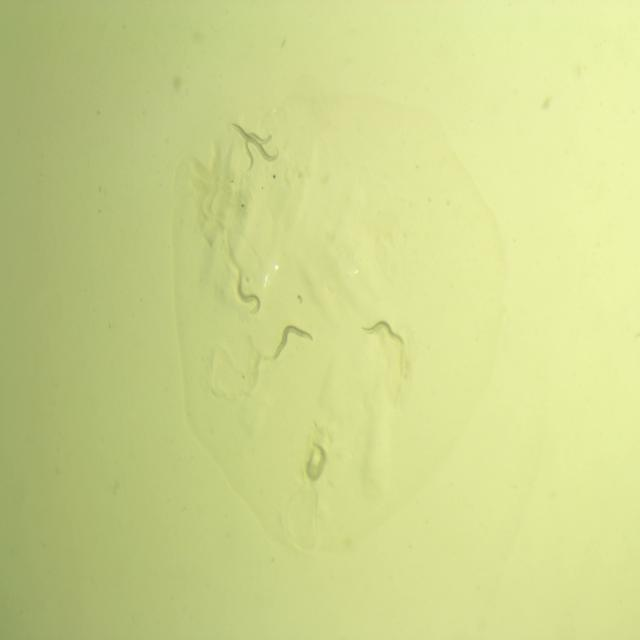worm: (358, 302, 406, 362), (228, 114, 282, 167), (267, 320, 324, 368), (233, 267, 266, 322), (241, 125, 275, 177), (301, 433, 330, 492)
